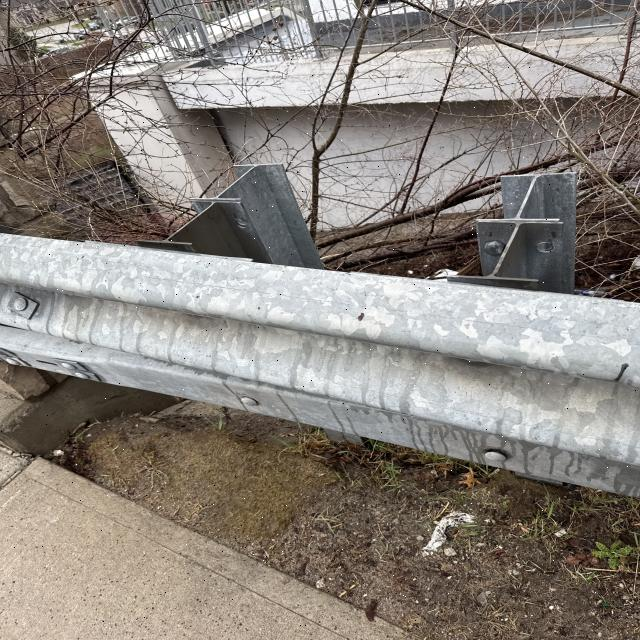Guard rail: (0, 242, 615, 409)
